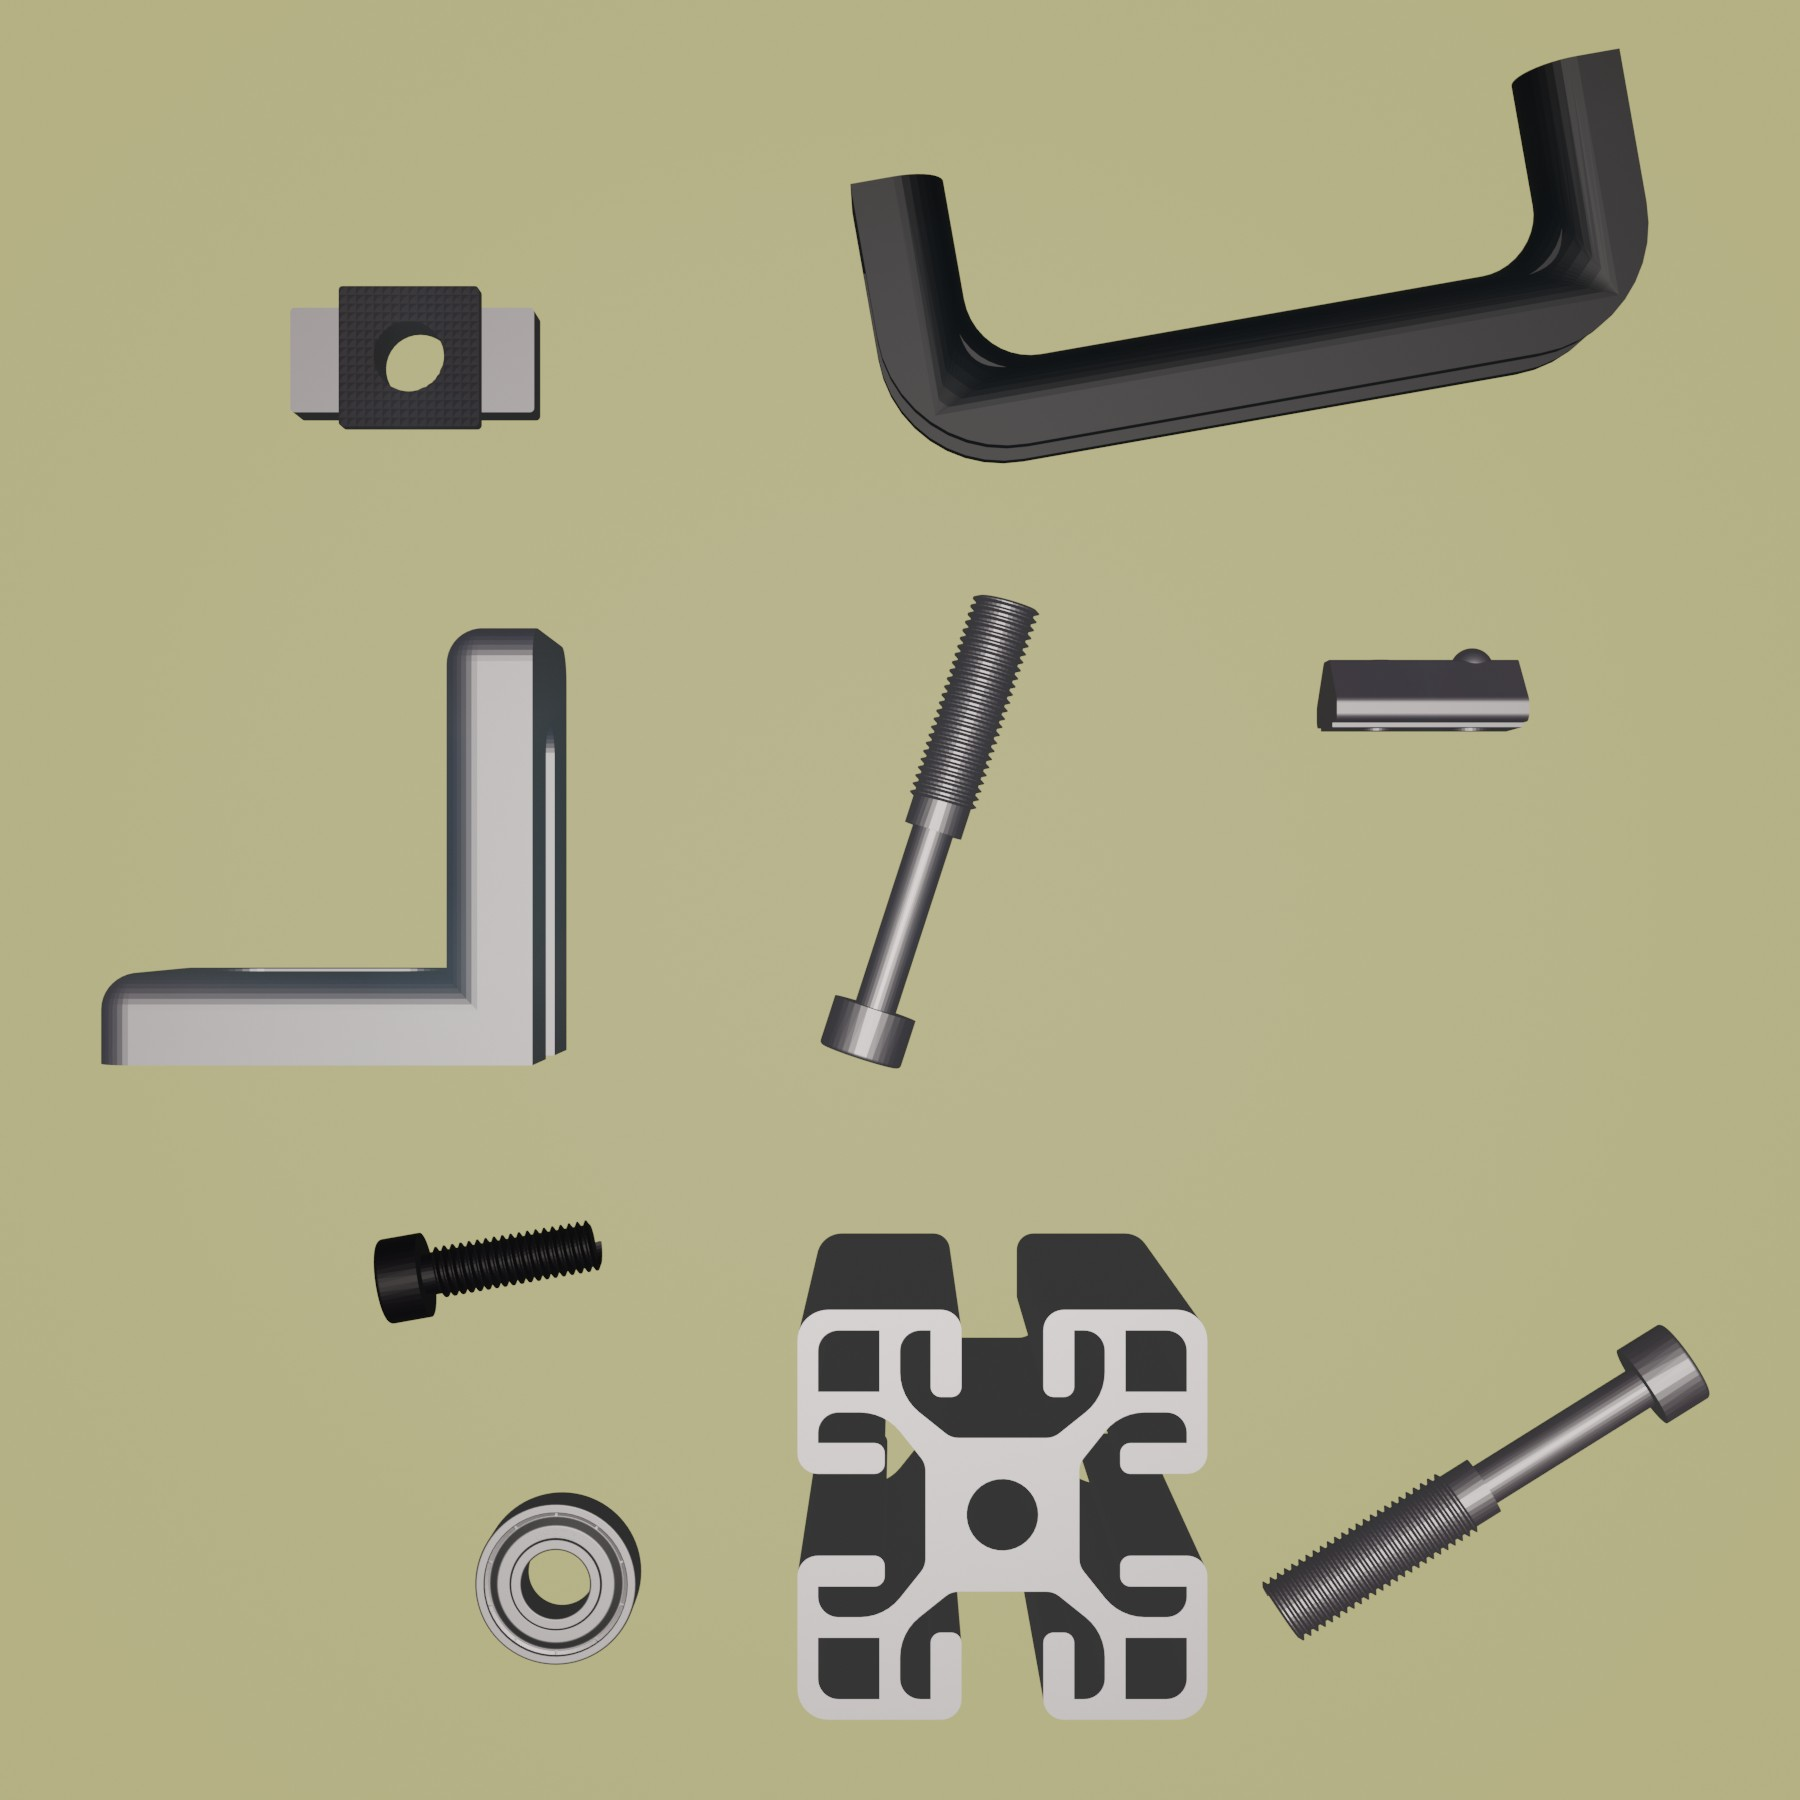Aluminium Extension: (790, 1226, 1215, 1727)
Ball Bearing: (470, 1488, 643, 1670)
Multiwinkel: (97, 621, 574, 1076)
Pull Handle: (851, 43, 1652, 470)
Shoulder Socket Head Cap Screw: (1256, 1319, 1709, 1643), (814, 592, 1043, 1073)
Socket Head Cap Screw: (373, 1215, 607, 1327)
T Nut Square: (285, 279, 544, 435)
T Spring Nut: (1314, 643, 1533, 742)
